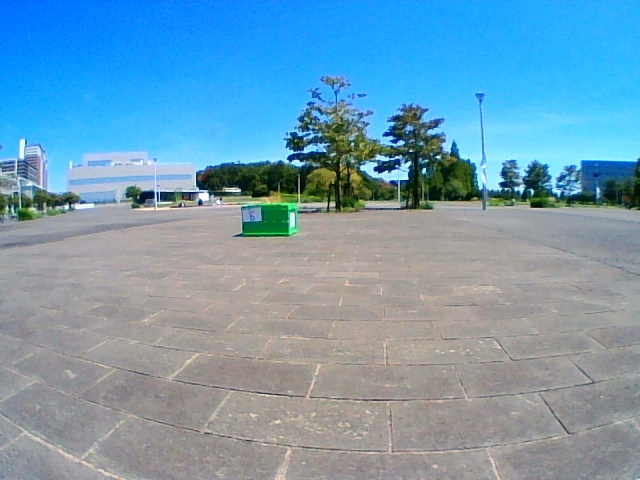green_box: (242, 204, 297, 235)
tag_b: (243, 207, 261, 221)
